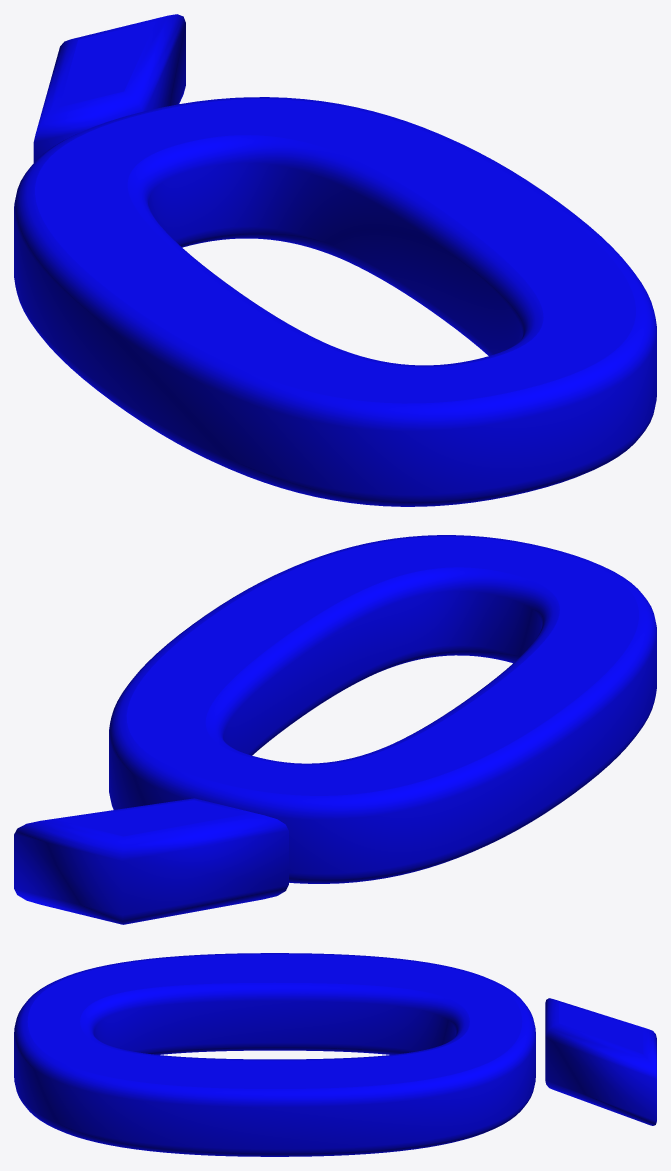
3 renders of one model, top to bottom at view 1: azimuth 30°, elevation 25°; view 2: azimuth 150°, elevation 25°; view 3: azimuth 270°, elevation 25°, orthographic. The views are drawn at different scales.
Visible parts, largest first — view 1: 211; view 2: 211; view 3: 211.
Boxes of the visible parts, box(x1,y1,x2,y2) form: 211: box(14, 14, 656, 506); 211: box(14, 535, 656, 924); 211: box(14, 953, 656, 1156).
Size of the model in its own units: 0.7554 by 0.16 by 1.4.
